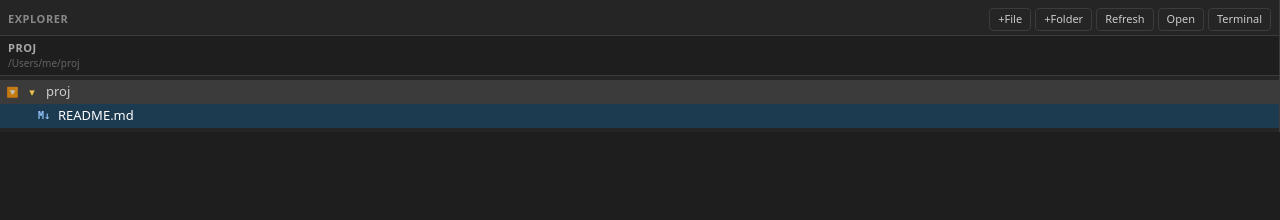
Sidebar create file / folder › rejects invalid paths without making a request
Click the button with test id "new-file" at (1010, 19), box [989, 8, 1031, 30]
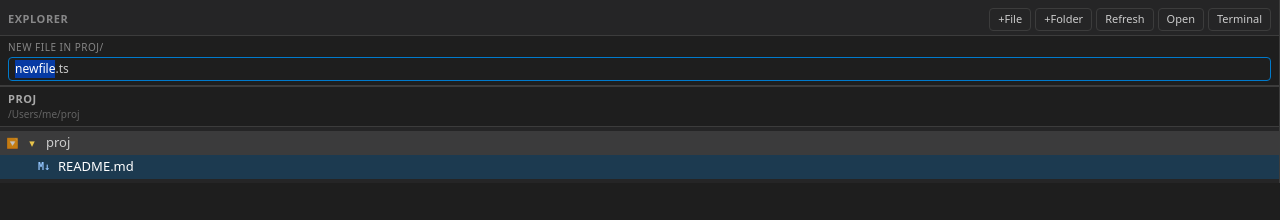
Replace the text in the field with test id "create-input" with "../escape.ts" at (640, 68), box [8, 56, 1271, 80]
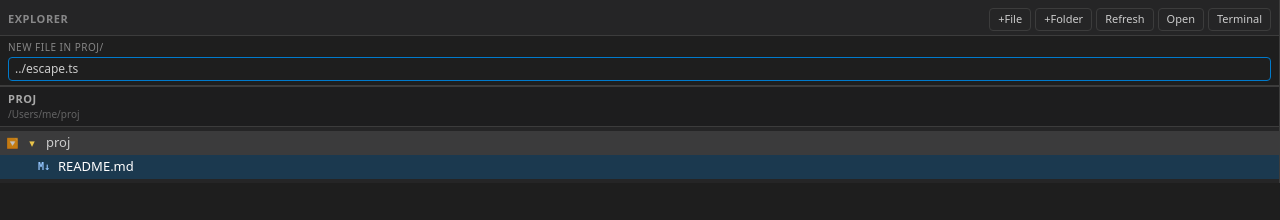
Press Enter in the field with test id "create-input", box [8, 56, 1271, 80]
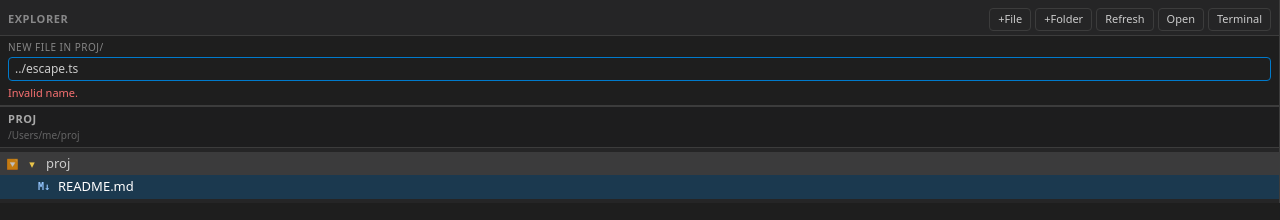
Now the message with test id "create-error" shows "Invalid", box [8, 84, 78, 100]
